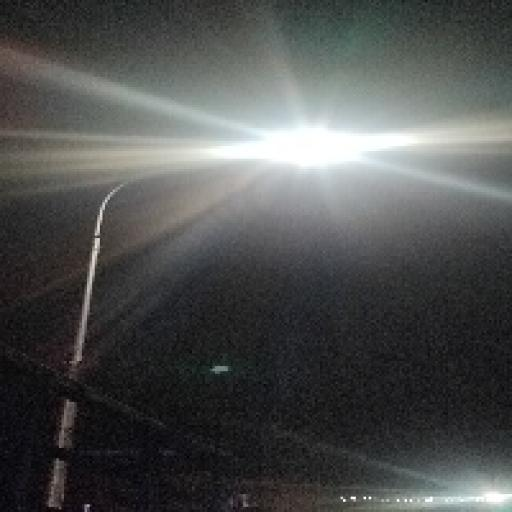Working: (214, 118, 412, 177)
